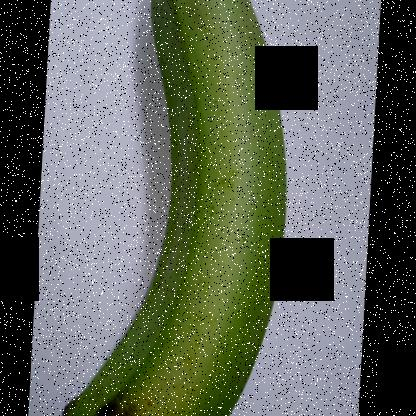freshunripe: (58, 0, 298, 415)
